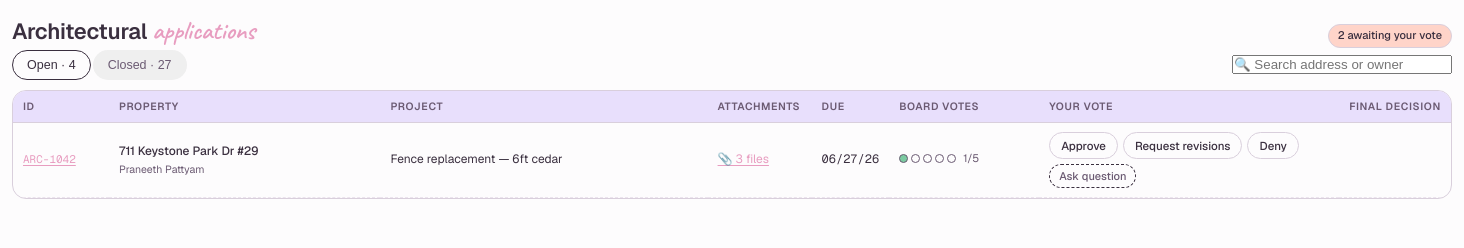
Test case: ApplicationsPageComponent (027 US1/US2) › votes Approve from the row and re-renders it (US2-S2)
The image size is (1464, 248).
Expected: the text "2 awaiting your vote" is shown, [1328,24,1452,48]
Click the button "Approve" at (1084, 145), box [1049,132,1118,159]
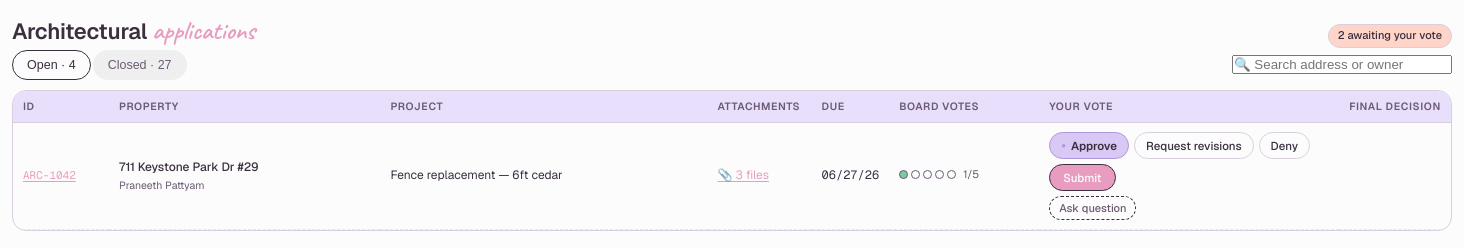
Click the button "Submit" at (1082, 177), box [1049,164,1116,191]
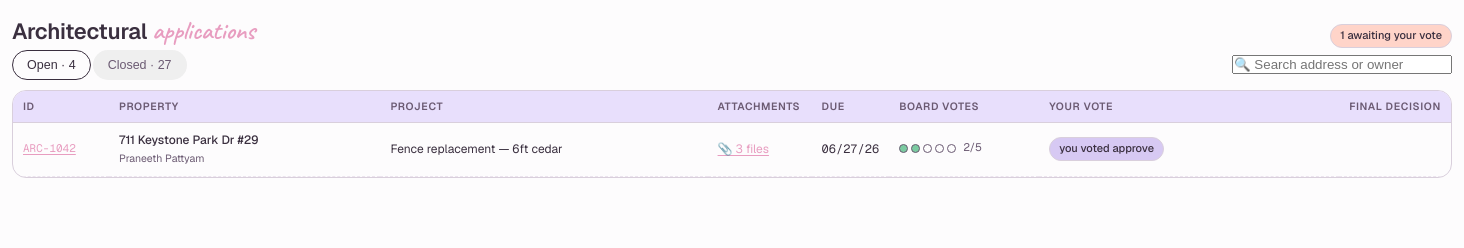
Now the text "you voted approve" is shown, box [1049,137,1164,161]
Now the picture named "2 approve · 0 request revisions · 0 deny · 3 not voted" is shown, box [899,140,982,156]
